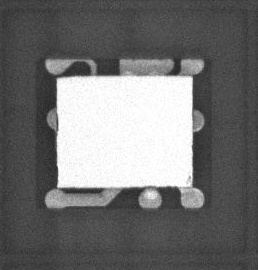DIE_INK: (185, 174, 192, 185)
